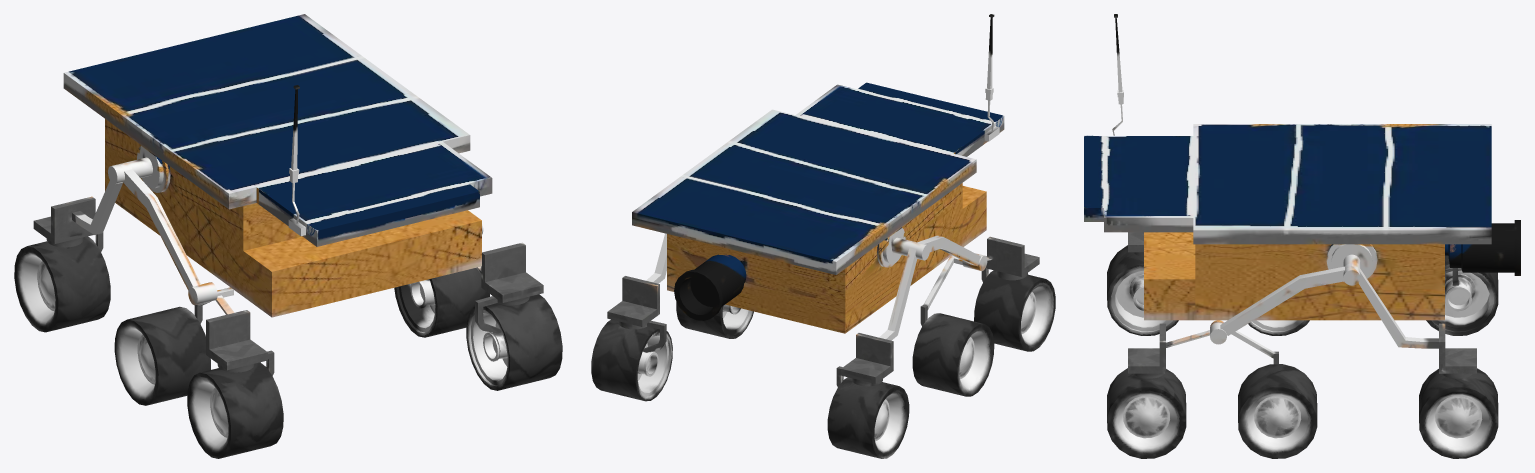
File: sojourner.glb
3 views of the same model, side by side, from view 1: azimuth 30°, elevation 25°; view 2: azimuth 150°, elevation 25°; view 3: azimuth 270°, elevation 25° (orthographic). The views are drawn at different scales.
Parts seen in each view (by area): view 1: pCylinder21_UV1012_0, pCylinder21_UV1001_0, pCylinder21_UV1003_0, pCylinder21_UV1002_0, pCylinder21_UV1004_0; view 2: pCylinder21_UV1012_0, pCylinder21_UV1001_0, pCylinder21_UV1003_0, pCylinder21_UV1002_0, pCylinder21_UV1011_0, pCylinder21_UV1004_0; view 3: pCylinder21_UV1012_0, pCylinder21_UV1003_0, pCylinder21_UV1001_0, pCylinder21_UV1011_0, pCylinder21_UV1004_0, pCylinder21_UV1002_0.
Boxes of the visible parts, box(x1,y1,x2,y2) form: pCylinder21_UV1012_0: box(63, 14, 492, 317); pCylinder21_UV1001_0: box(14, 86, 299, 458); pCylinder21_UV1003_0: box(394, 209, 562, 390); pCylinder21_UV1002_0: box(33, 85, 299, 375); pCylinder21_UV1004_0: box(475, 242, 543, 333); pCylinder21_UV1012_0: box(632, 17, 1004, 333); pCylinder21_UV1001_0: box(827, 15, 1055, 458); pCylinder21_UV1003_0: box(591, 233, 753, 401); pCylinder21_UV1002_0: box(836, 14, 1039, 386); pCylinder21_UV1011_0: box(674, 254, 746, 320); pCylinder21_UV1004_0: box(607, 276, 666, 352); pCylinder21_UV1012_0: box(1084, 17, 1491, 320); pCylinder21_UV1003_0: box(1107, 244, 1498, 458); pCylinder21_UV1001_0: box(1107, 15, 1498, 335); pCylinder21_UV1011_0: box(1445, 220, 1520, 275); pCylinder21_UV1004_0: box(1128, 323, 1476, 378); pCylinder21_UV1002_0: box(1114, 14, 1459, 285).
Bounding box in the file's own units: 628 × 660 × 794.
6 materials, 6 textured.
